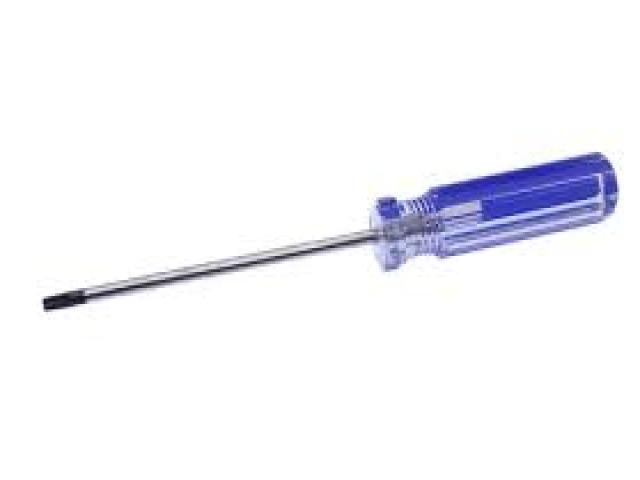Screwdriver: (44, 153, 618, 310)
